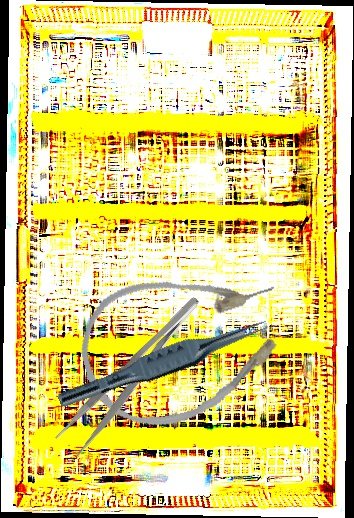Cannula: (67, 249, 302, 443)
Dressing Forceps: (53, 292, 215, 460)
Tissue Forceps: (56, 306, 271, 421)
